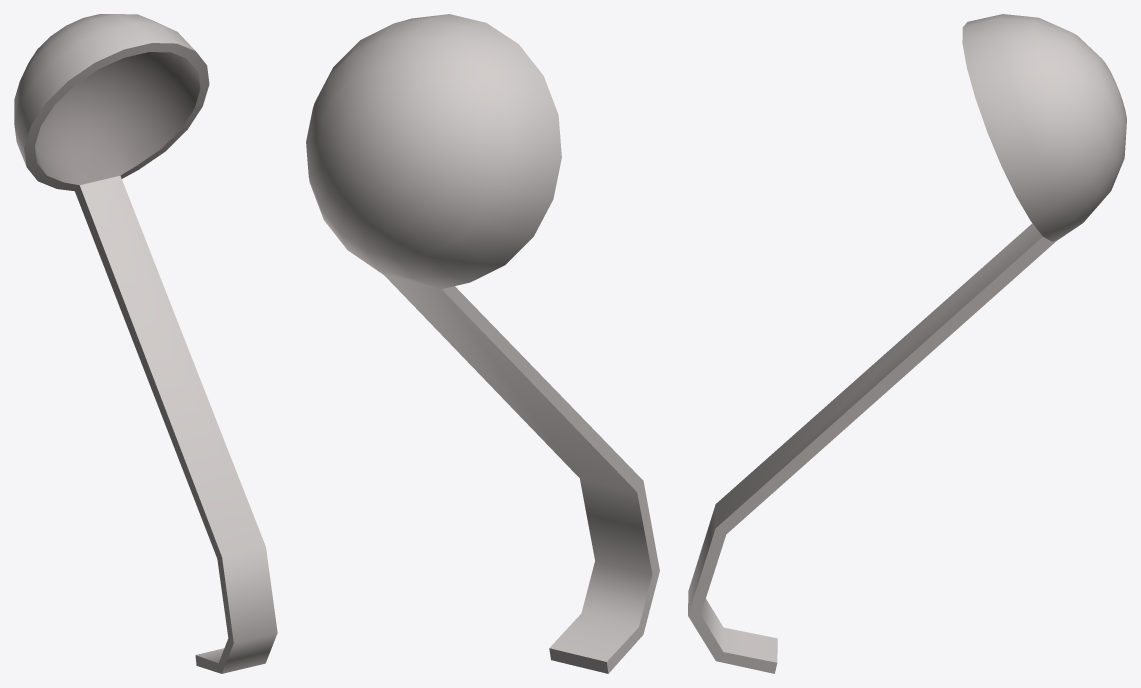
Rendered from Louche.fbx.
3 renders of one model, left to right at view 1: azimuth 30°, elevation 25°; view 2: azimuth 150°, elevation 25°; view 3: azimuth 270°, elevation 25°, orthographic. The views are drawn at different scales.
Visible parts, largest first — view 1: Louche; view 2: Louche; view 3: Louche.
Boxes of the visible parts, bbox=[...] form: Louche: bbox=[14, 14, 277, 673]; Louche: bbox=[306, 14, 659, 673]; Louche: bbox=[688, 14, 1126, 673].
Size of the model in its own units: 18.39 by 55.39 by 34.62.
